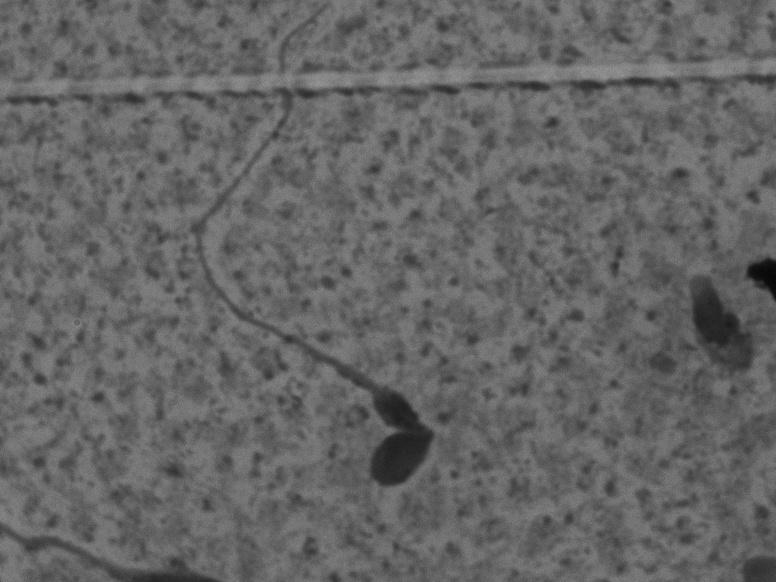Abnormal: (190, 9, 443, 504), (655, 230, 761, 414)
